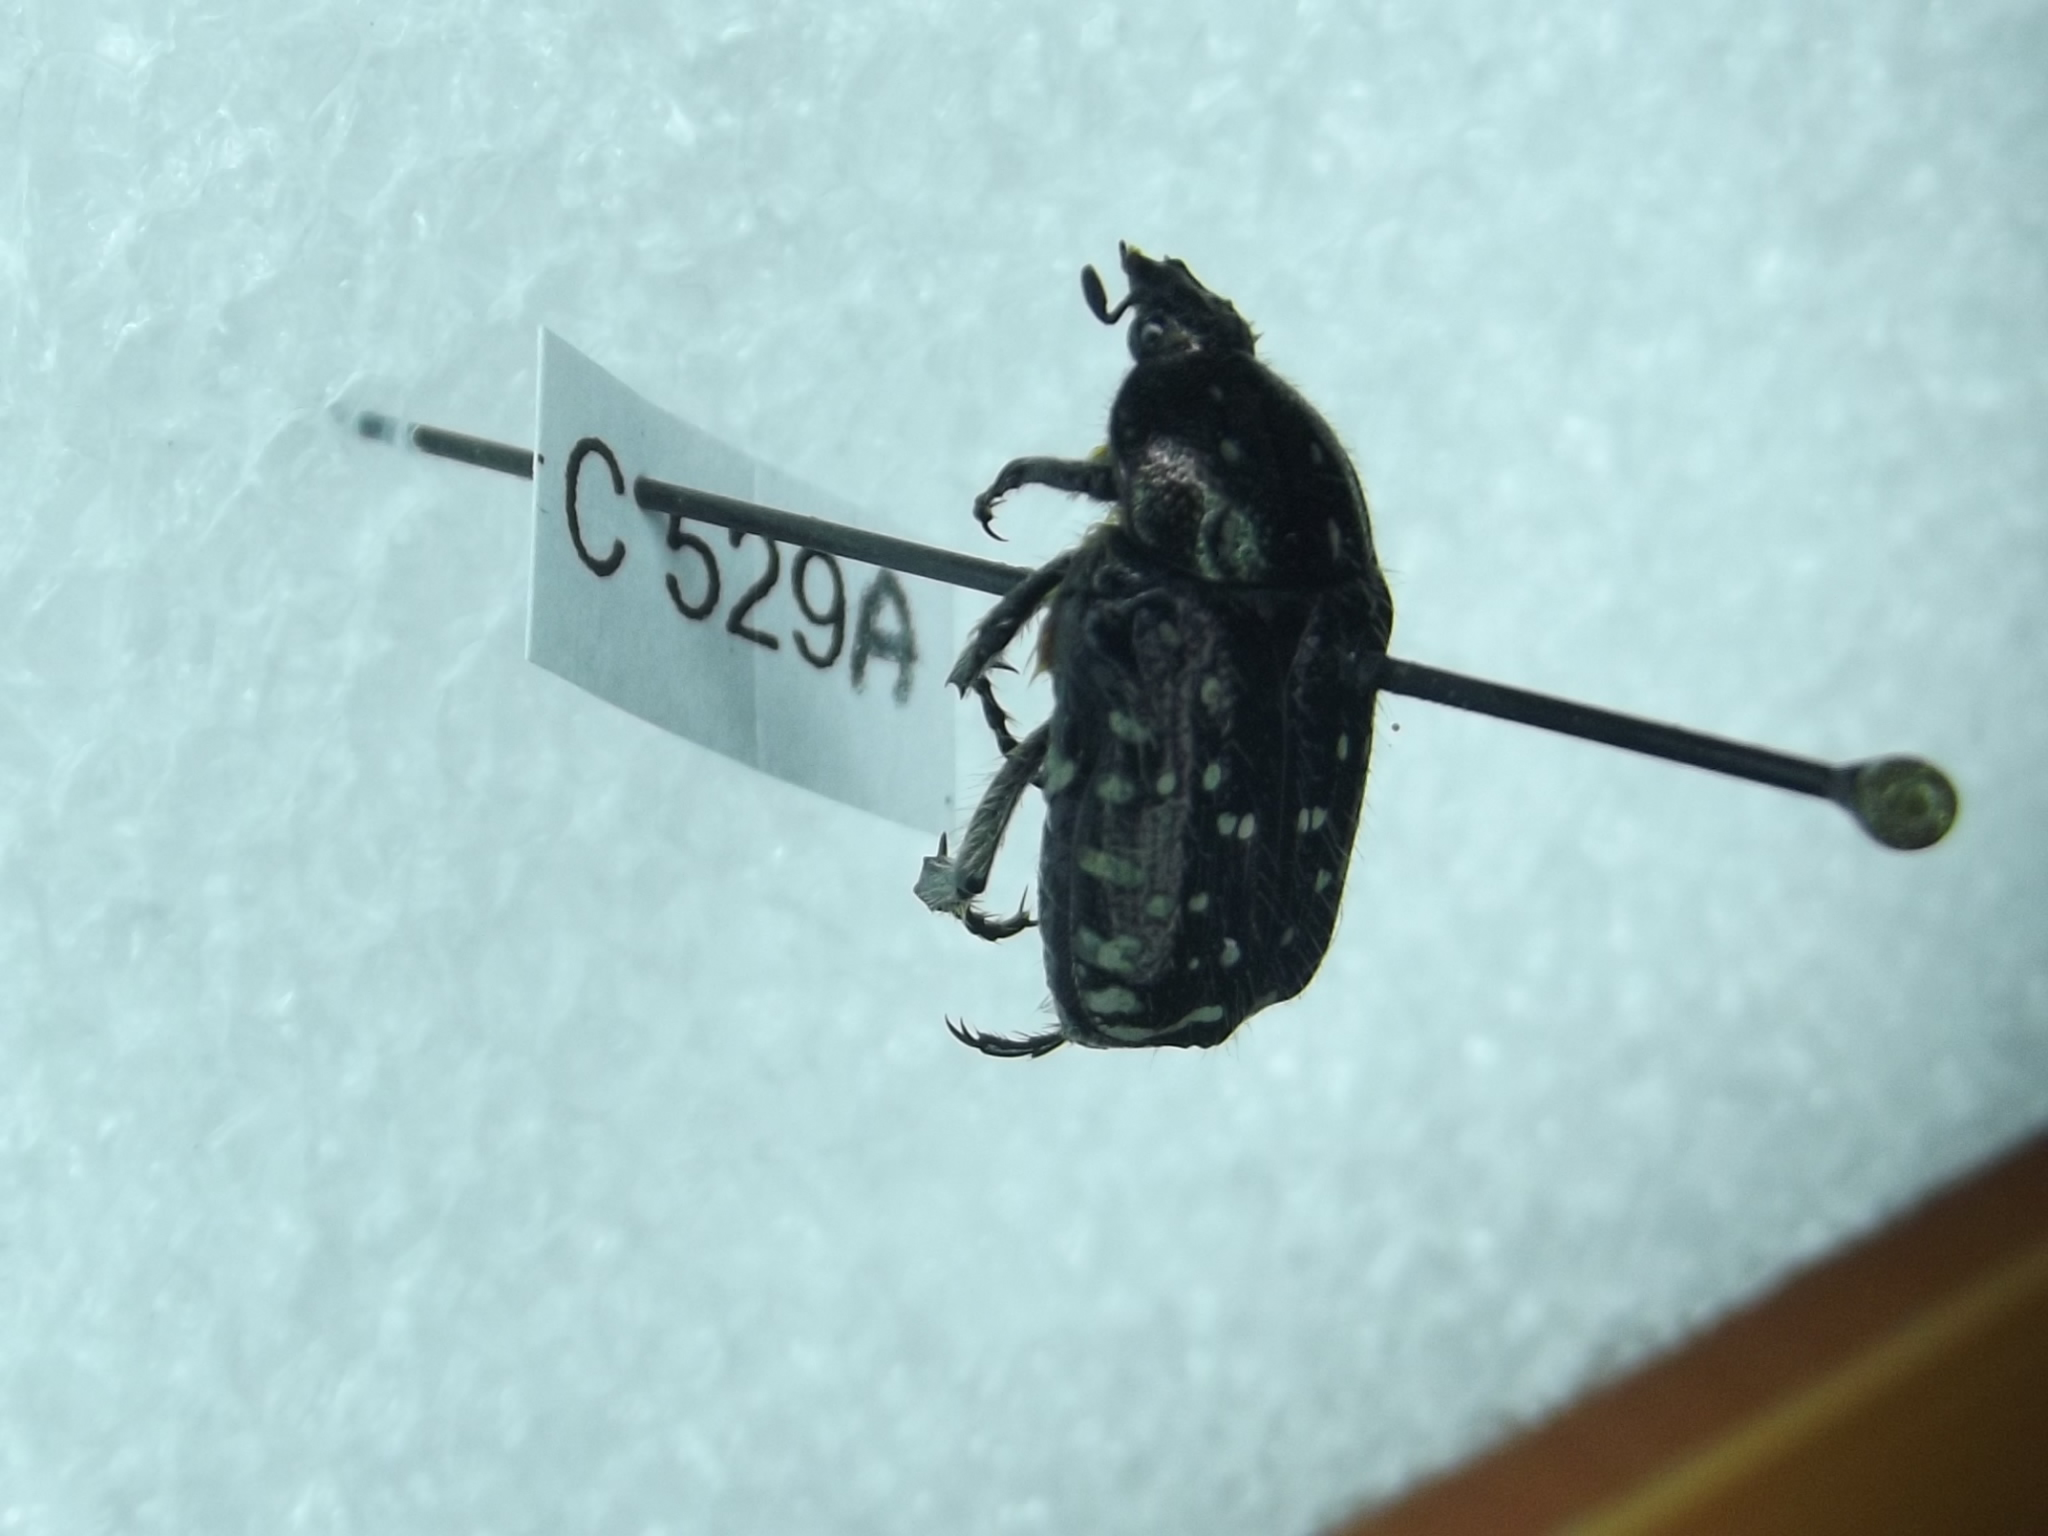Oxythyrea_funesta: (910, 227, 1408, 1055)
